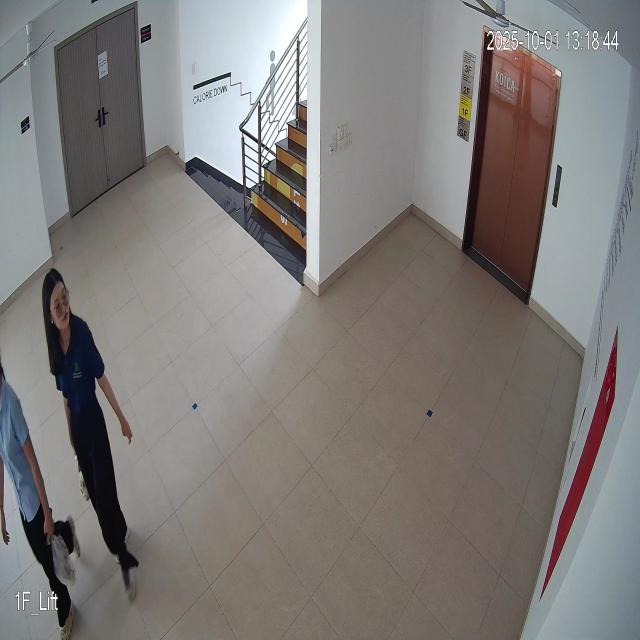face: (38, 258, 74, 336)
